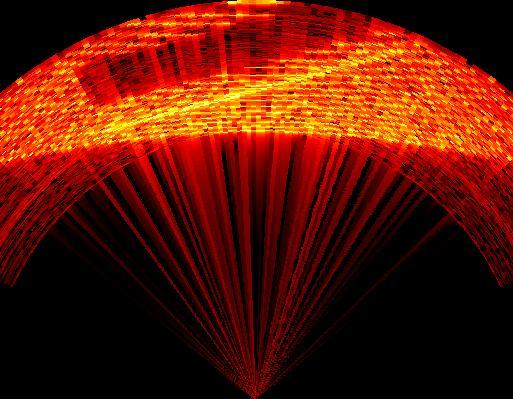pipe: (73, 8, 420, 131)
